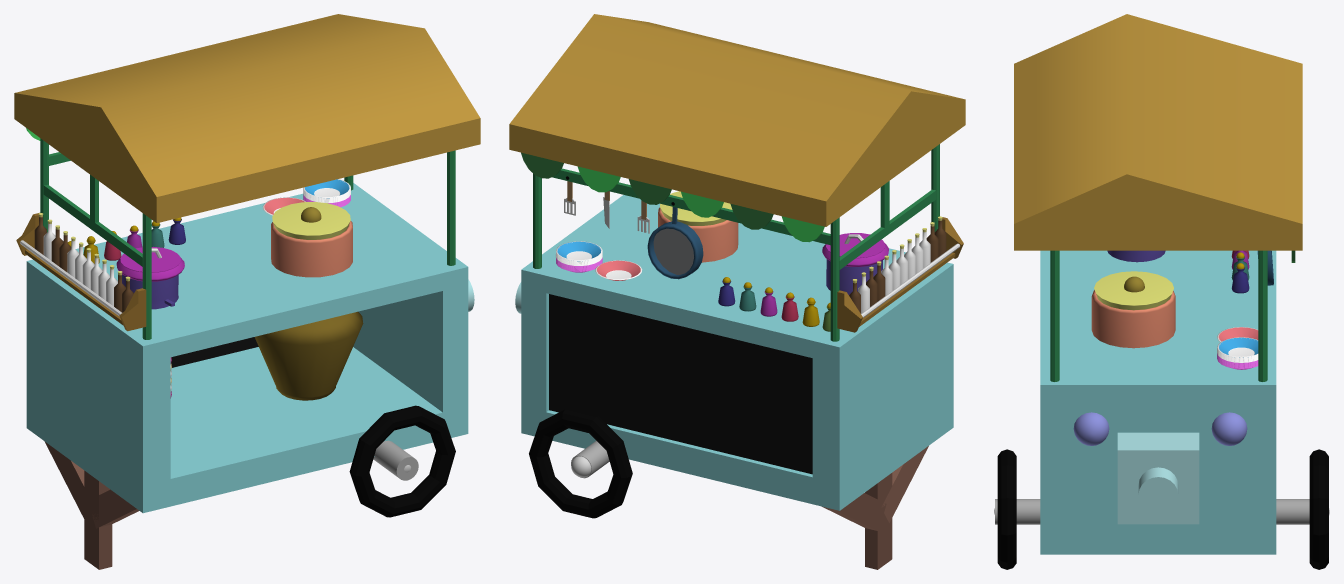
3 renders of one model, left to right at view 1: azimuth 30°, elevation 25°; view 2: azimuth 150°, elevation 25°; view 3: azimuth 270°, elevation 25°, orthographic. The views are drawn at different scales.
Parts seen in each view (by area): view 1: pCube1, pCube3, pCylinder79, pTorus2, pCylinder76, pCylinder77, pCube16, pCylinder78, pCube4, pCylinder67, pCylinder3, pCube17 (+9 smaller); view 2: pCube3, pCube1, pPlane1, pTorus1, pCube20, pCube16, pCylinder76, pCube10, pCube4, pCube17, pCylinder4, pCube18 (+17 smaller); view 3: pCube3, pCube1, pCube2, pCylinder76, pTorus2, pTorus1, pCylinder77, pCylinder67, pCylinder5, pCylinder1, pCylinder2, pSphere4 (+4 smaller).
Part boxes in pixels (x1,y1,x2,y2): pCube1: [26, 183, 468, 513]; pCube3: [14, 14, 480, 223]; pCylinder79: [254, 311, 363, 400]; pTorus2: [349, 405, 455, 517]; pCylinder76: [271, 221, 352, 277]; pCylinder77: [272, 202, 350, 239]; pCube16: [84, 470, 112, 569]; pCylinder78: [116, 246, 184, 281]; pCube4: [43, 185, 142, 266]; pCylinder67: [373, 440, 418, 480]; pCylinder3: [142, 213, 151, 339]; pCube17: [44, 441, 84, 518]; pCube3: [509, 14, 965, 226]; pCube1: [521, 195, 953, 510]; pPlane1: [549, 294, 812, 474]; pTorus1: [529, 409, 632, 518]; pCube20: [647, 207, 703, 279]; pCube16: [865, 473, 892, 569]; pCylinder76: [658, 207, 738, 262]; pCube10: [552, 168, 830, 245]; pCube4: [839, 189, 936, 269]; pCube17: [822, 493, 886, 531]; pCylinder4: [830, 217, 839, 341]; pCube18: [881, 446, 928, 522]; pCube3: [1014, 14, 1302, 250]; pCube1: [1040, 250, 1276, 554]; pCube2: [1117, 432, 1199, 524]; pCylinder76: [1091, 290, 1175, 348]; pTorus2: [997, 449, 1016, 569]; pTorus1: [1309, 449, 1328, 569]; pCylinder77: [1094, 271, 1173, 310]; pCylinder67: [995, 499, 1309, 524]; pCylinder5: [1138, 467, 1178, 512]; pCylinder1: [1258, 250, 1267, 381]; pCylinder2: [1050, 250, 1059, 381]; pSphere4: [1211, 412, 1247, 445].
Bounding box in the file's own units: 15.47 × 17.64 × 11.19.
